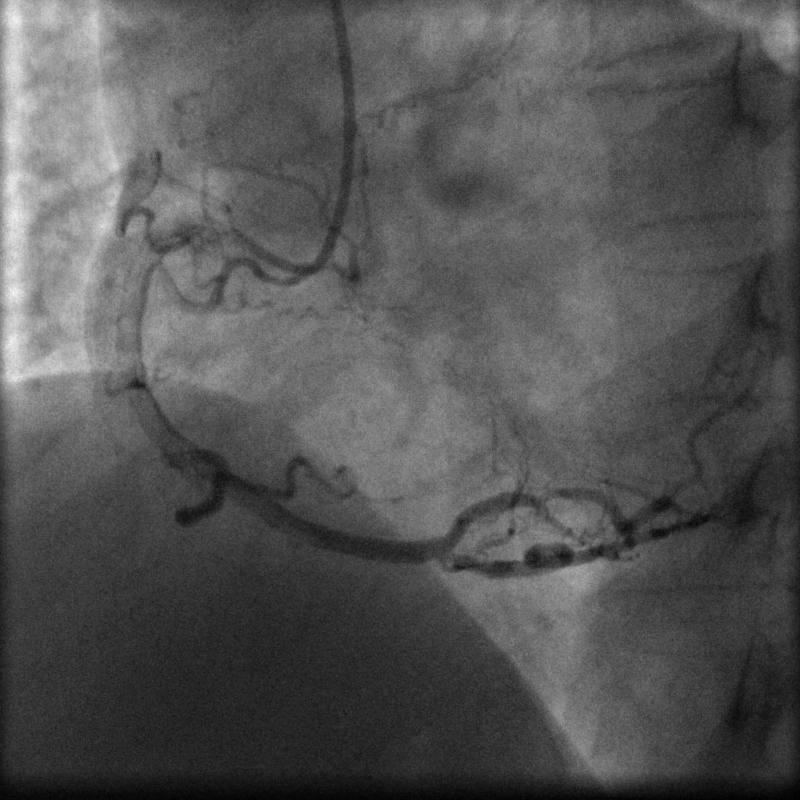Stenosis: (516, 484, 566, 511)
